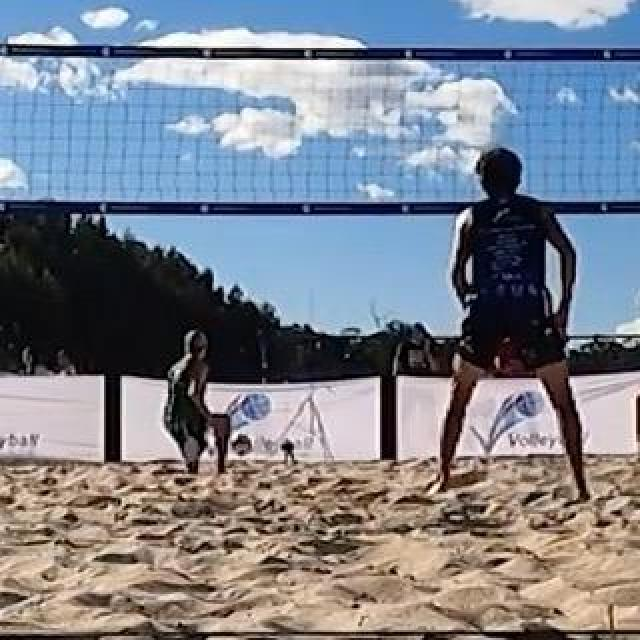volleyball: (230, 434, 252, 456)
